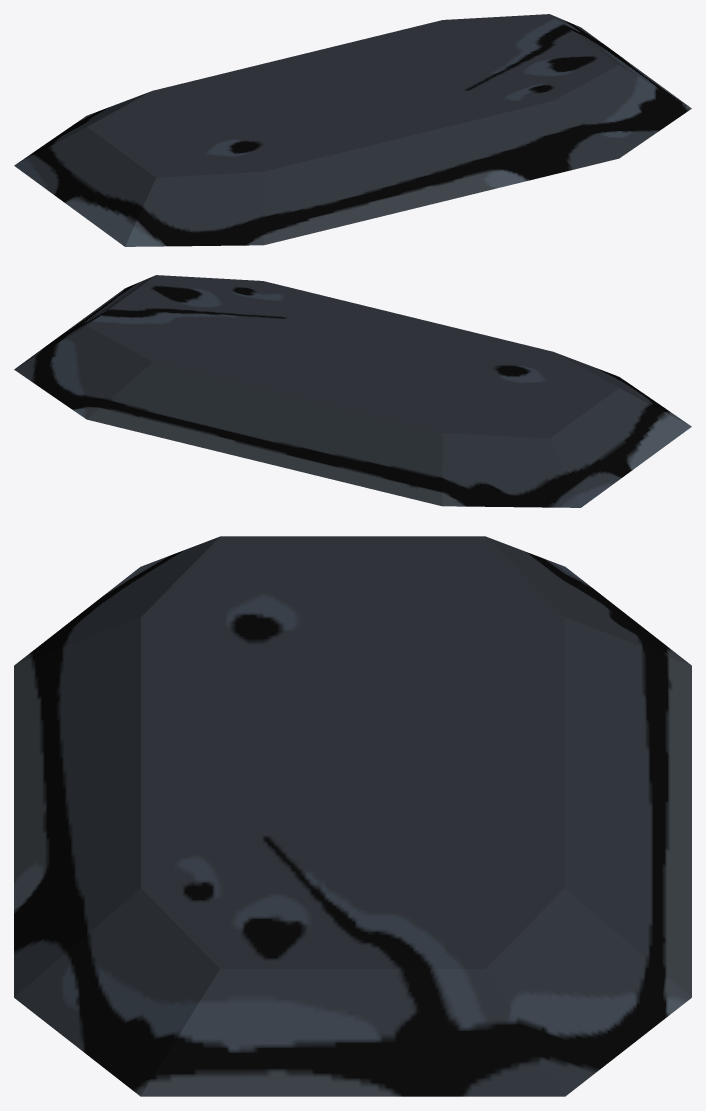
Rendered from DaB.fbx.
3 renders of one model, top to bottom at view 1: azimuth 30°, elevation 25°; view 2: azimuth 150°, elevation 25°; view 3: azimuth 270°, elevation 25°, orthographic. The views are drawn at different scales.
Visible parts, largest first — view 1: DaB; view 2: DaB; view 3: DaB.
Part boxes in pixels (x1,y1,x2,y2): DaB: [14, 14, 691, 246]; DaB: [14, 275, 691, 507]; DaB: [14, 536, 691, 1096].
Size of the model in its own units: 0.8388 by 0.4537 by 0.0583.
Materials: 1 (1 with a texture image).
